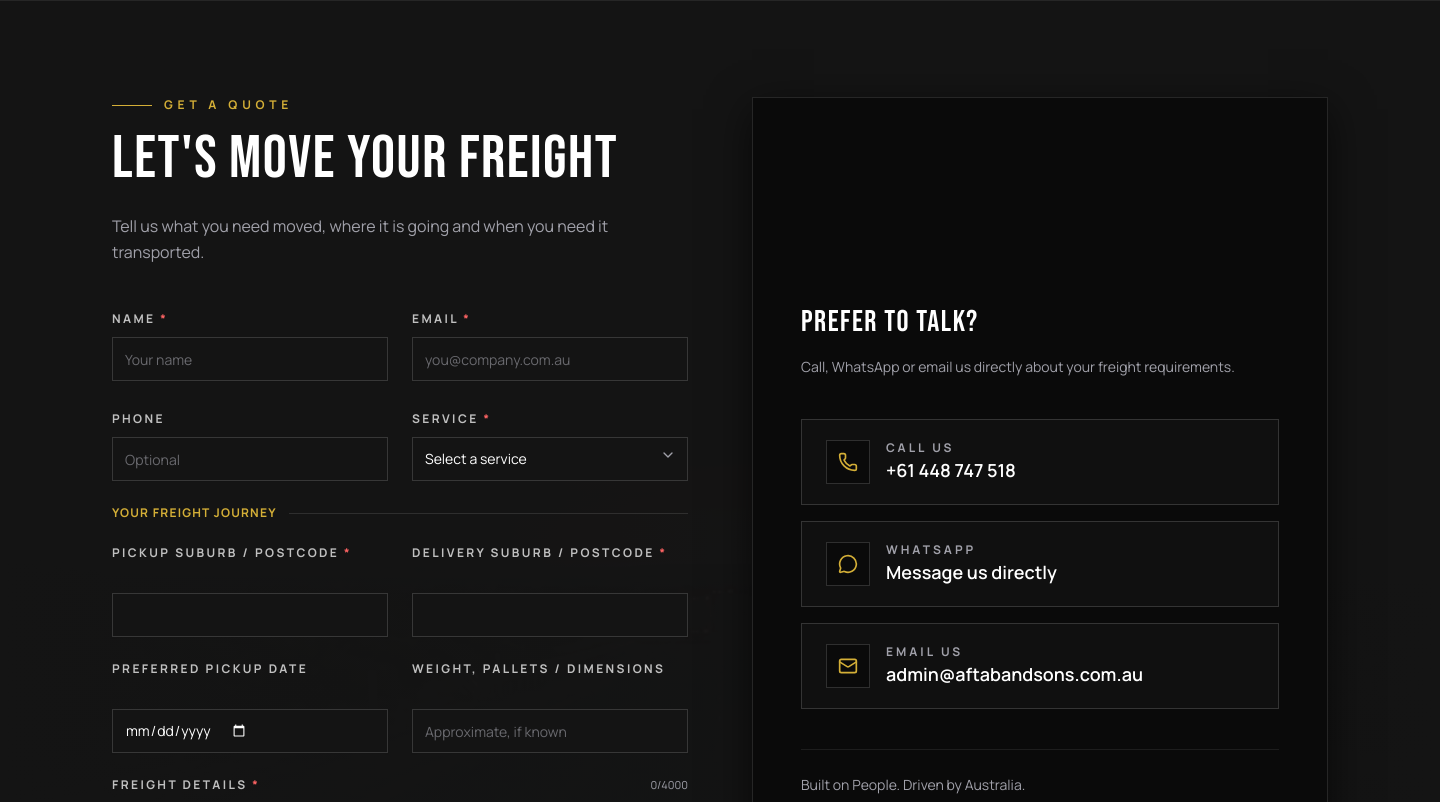
Web3Forms quote form › submits valid freight details to Web3Forms
This screenshot has width=1440, height=802.
Type "Test Customer" into the field with test id "quote-name-input" at [250, 359], box x1=112 y1=337 x2=388 y2=381
Type "customer@example.com" into the field with test id "quote-email-input" at [550, 359], box x1=412 y1=337 x2=688 y2=381
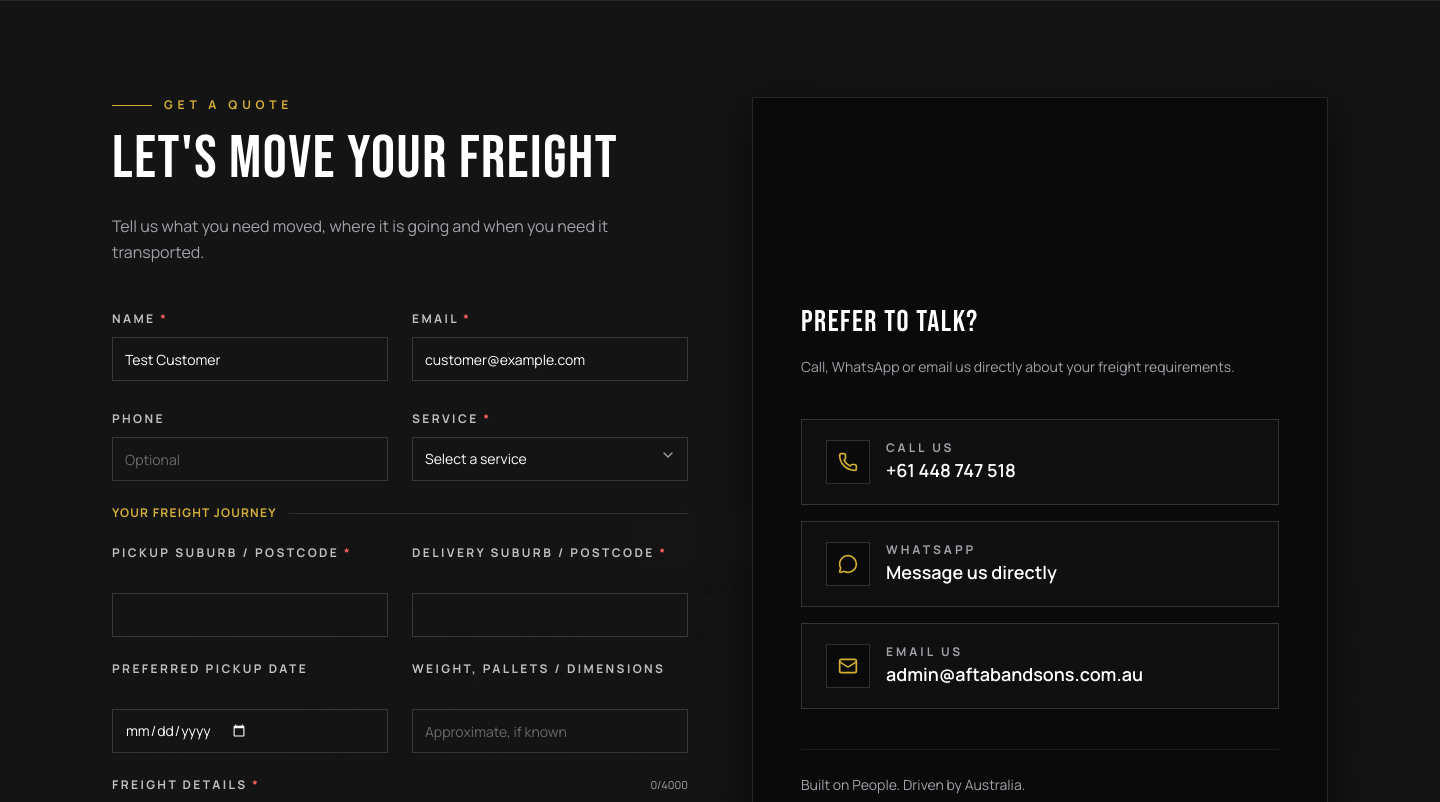
Select "Truck Transport" in the dropdown with test id "quote-service-select" at [550, 459], box x1=412 y1=437 x2=688 y2=481
(page scrolled)
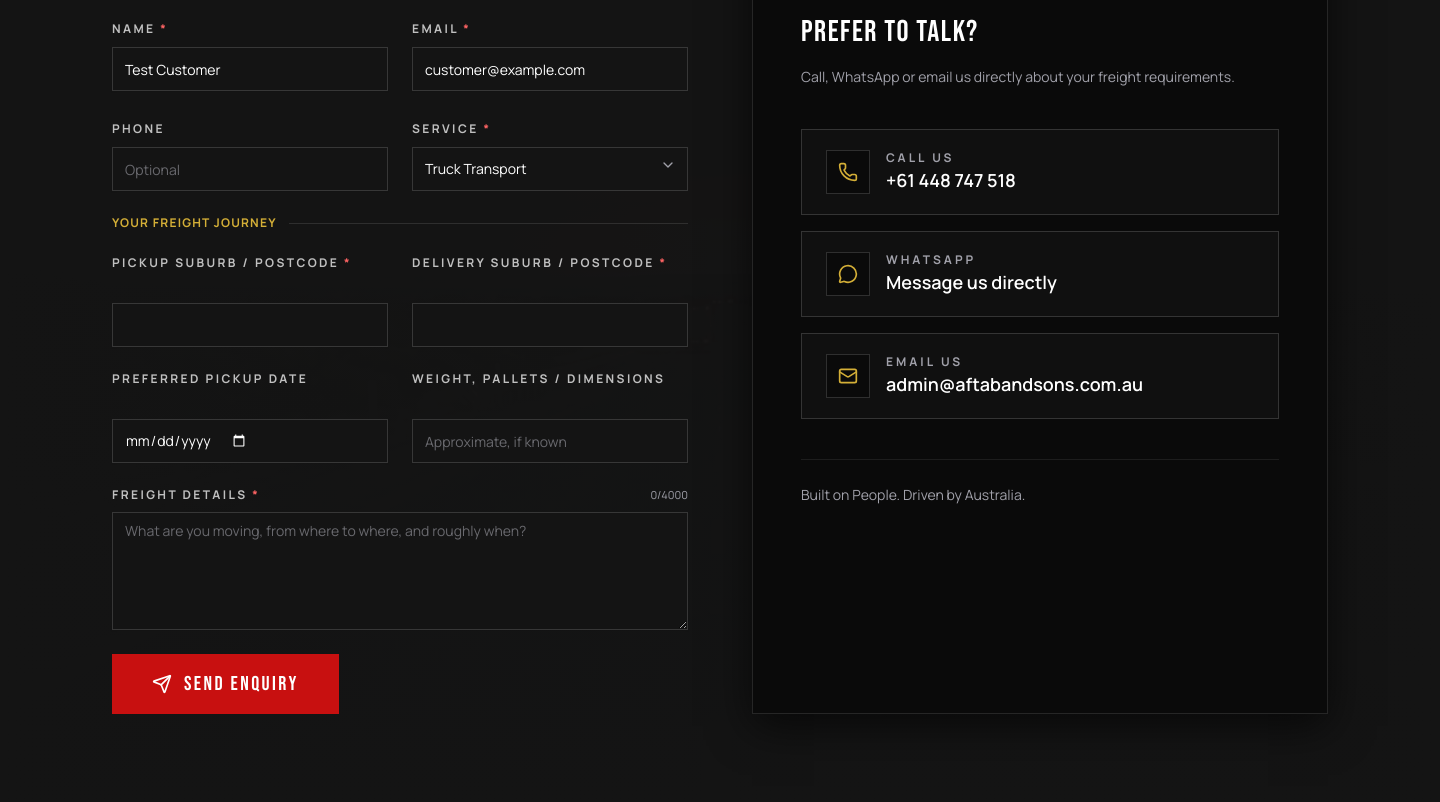
Type "Freight from Sydney to Melbourne next week." into the text box with test id "quote-message-input" at [400, 570], box x1=112 y1=512 x2=688 y2=630
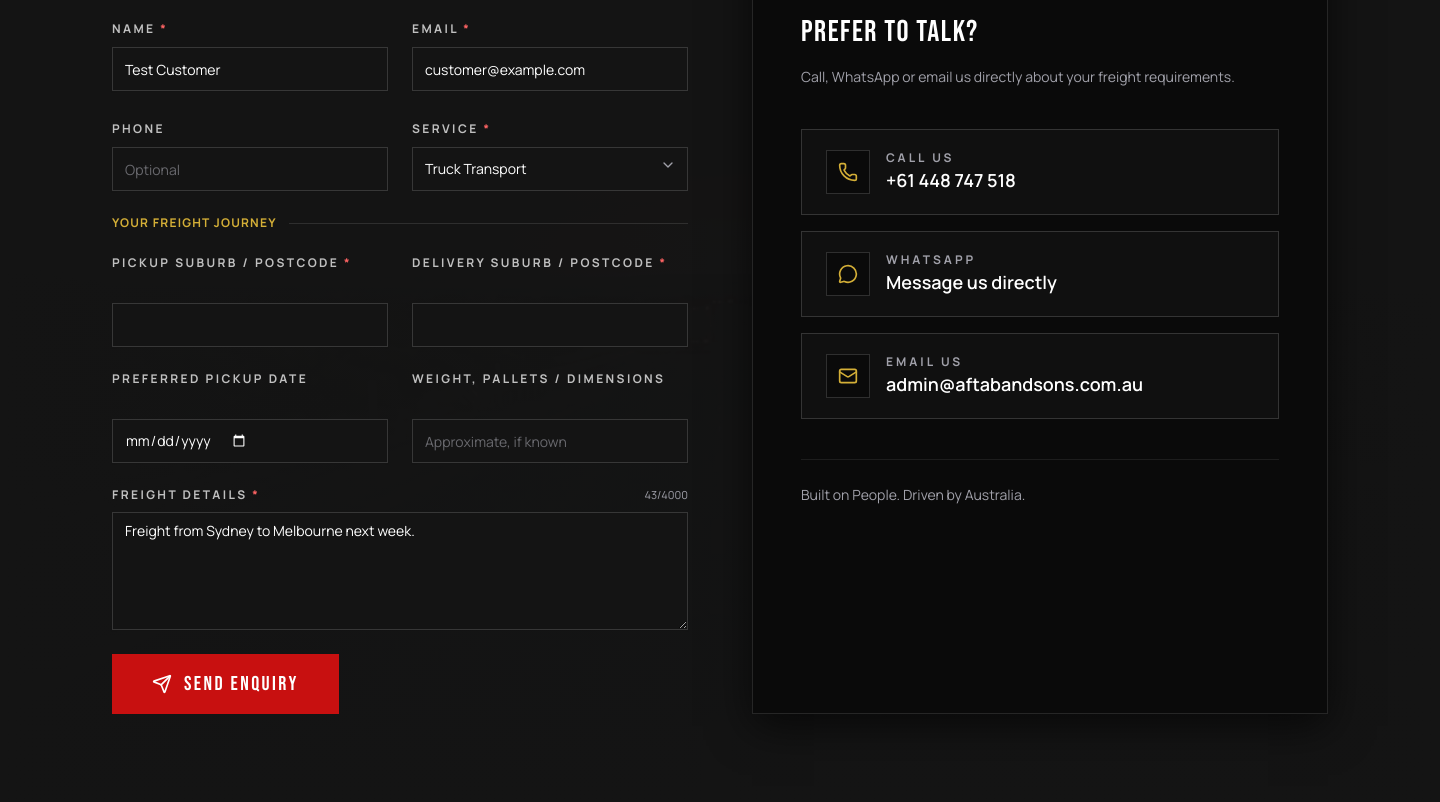
Type "Sydney 2000" into the field with test id "quote-pickup-input" at [250, 325], box x1=112 y1=303 x2=388 y2=347
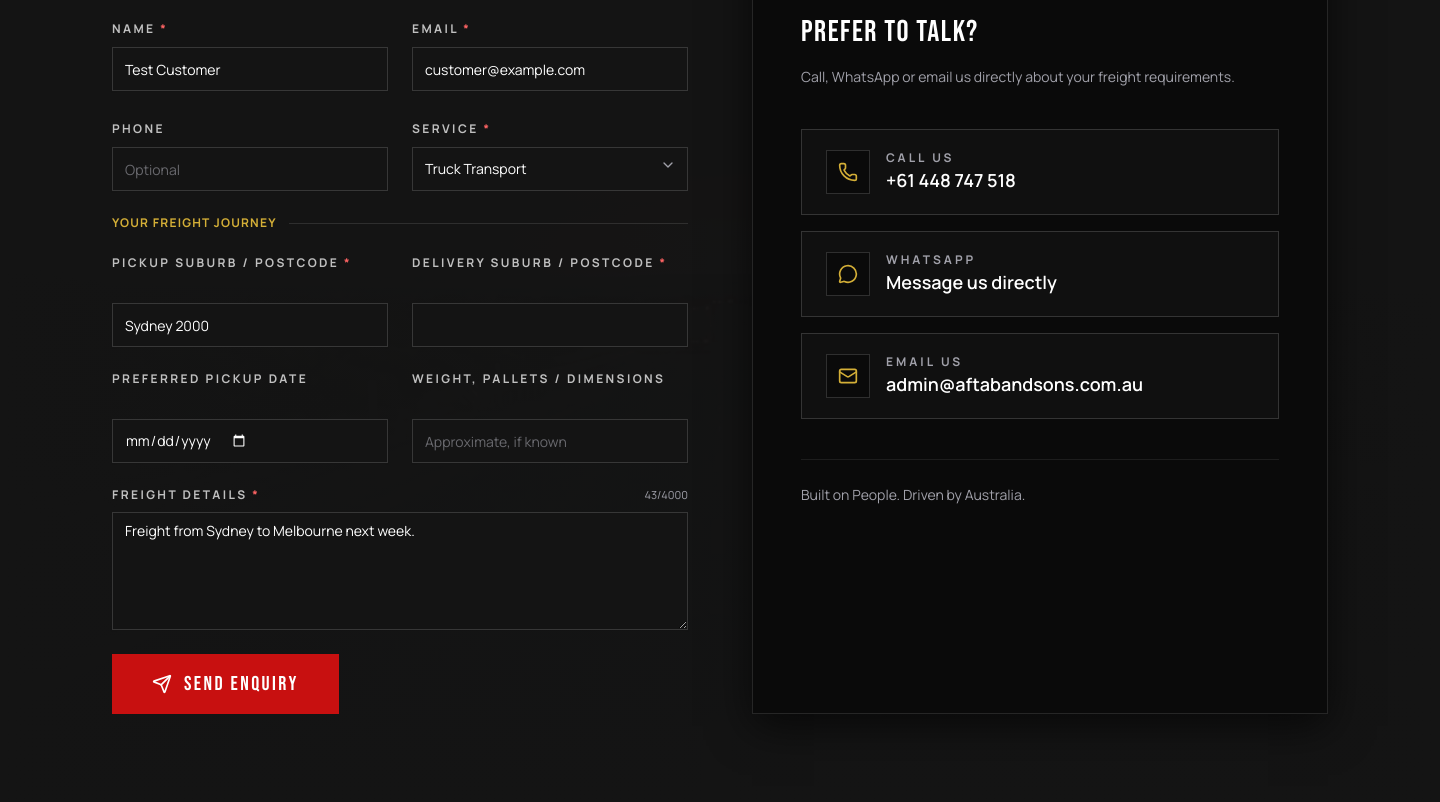
Type "Melbourne 3000" into the field with test id "quote-destination-input" at [550, 325], box x1=412 y1=303 x2=688 y2=347
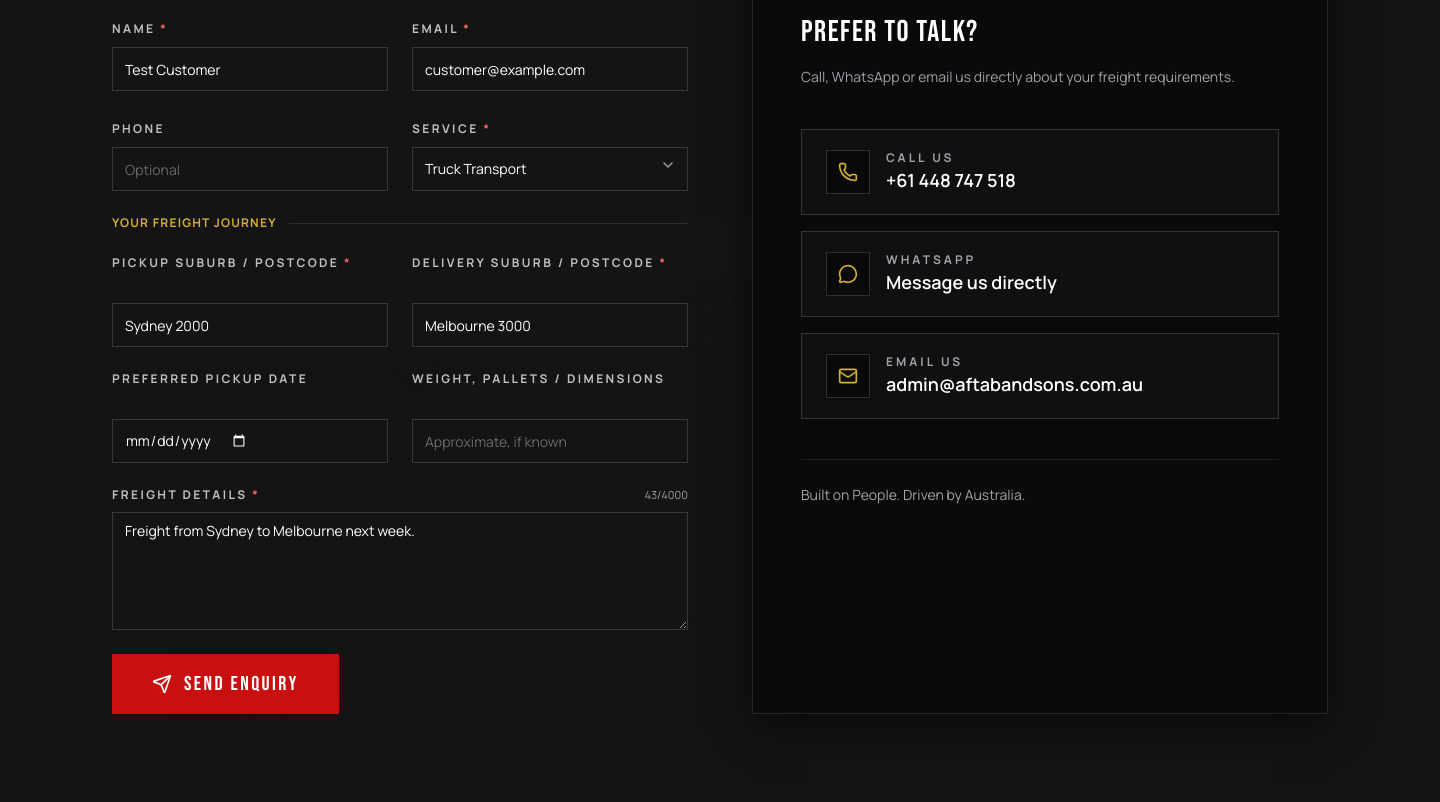
Click the button with test id "quote-submit-button" at [225, 684], box x1=112 y1=654 x2=339 y2=714
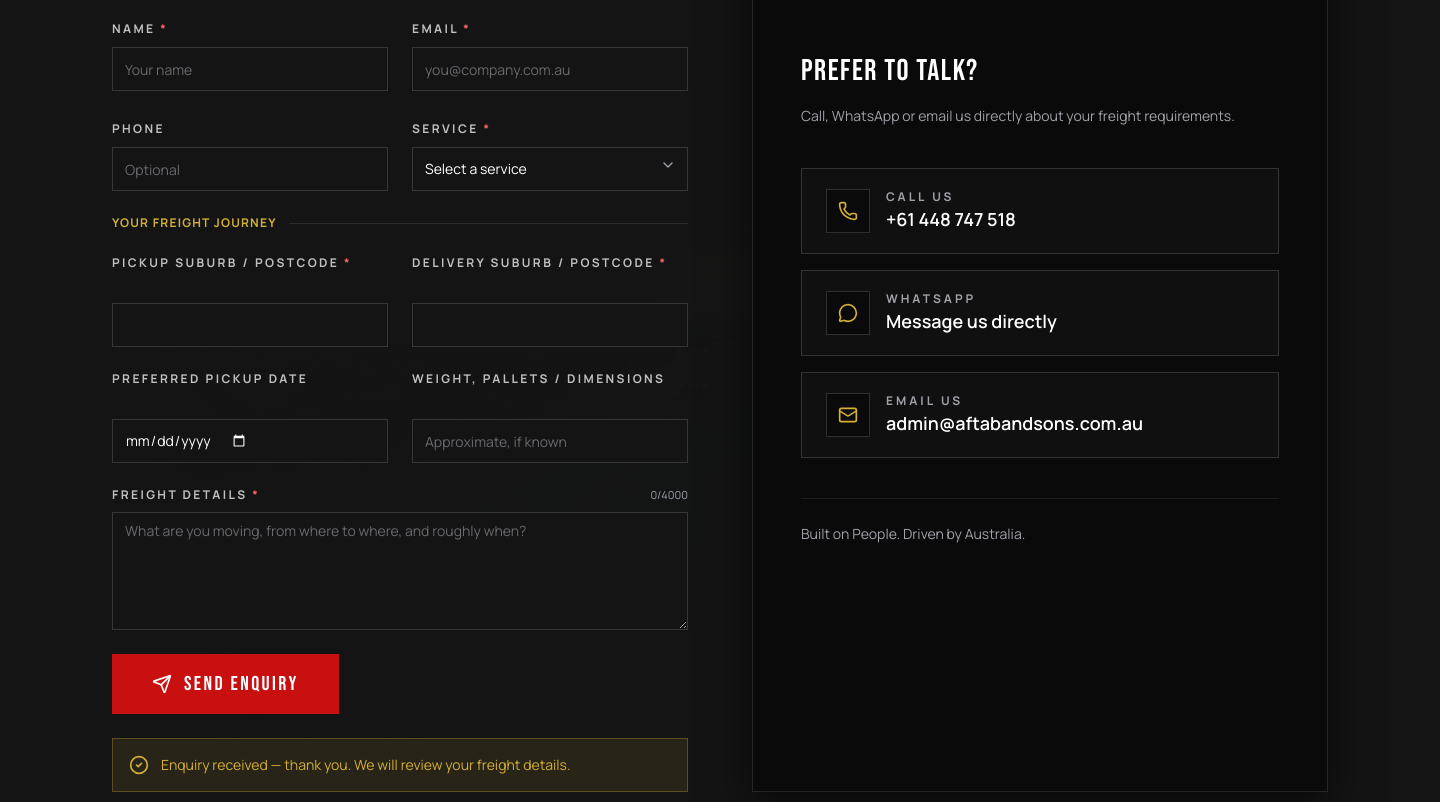
expect the message "Enquiry received — thank you. We will review your freight details." is shown: met, box x1=112 y1=738 x2=688 y2=792
